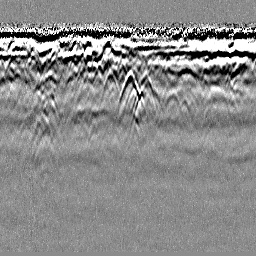cavity: (118, 67, 141, 106)
